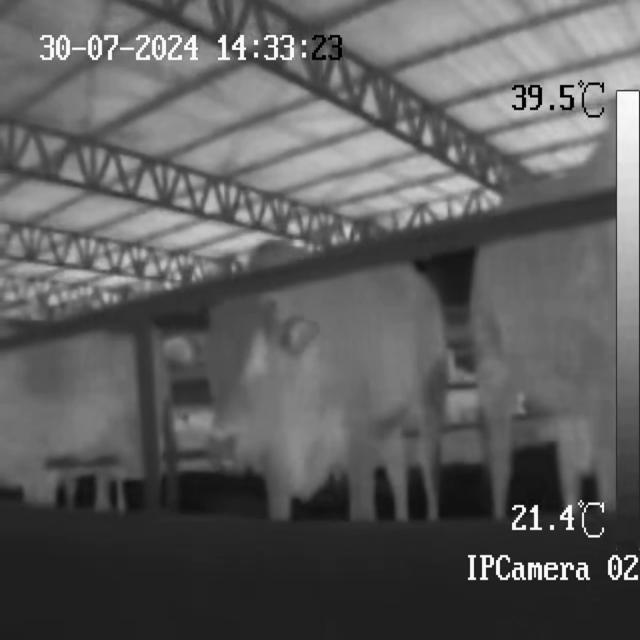eye: (238, 335, 272, 387)
head: (193, 298, 297, 470)
